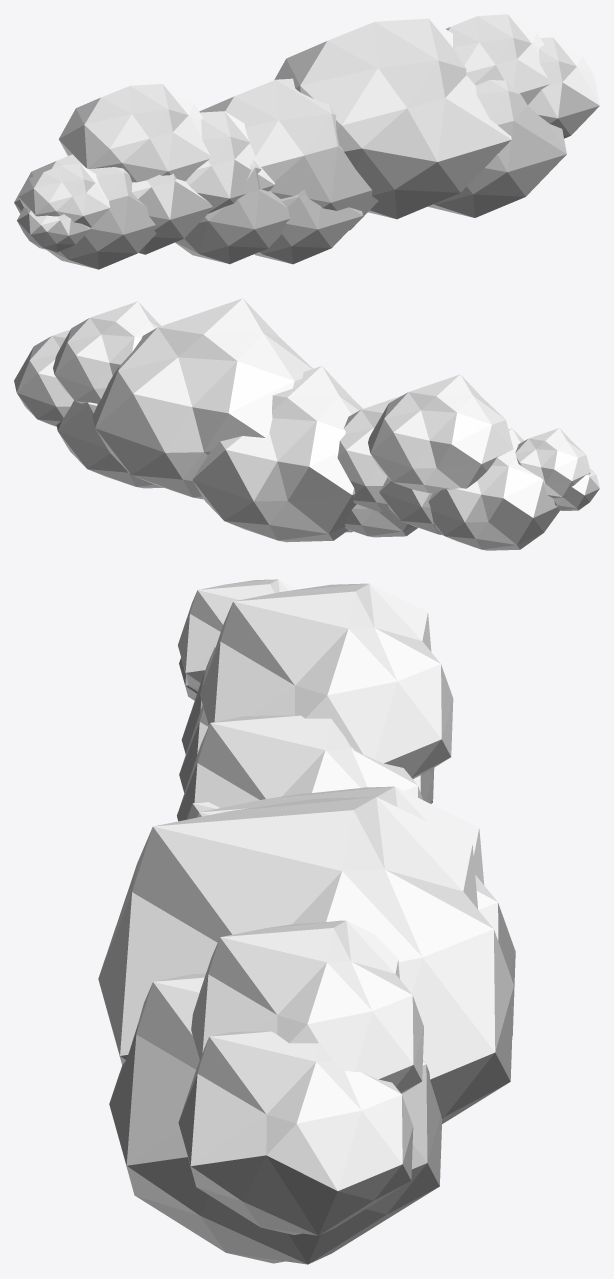
Rendered from Cloud3.fbx.
The picture shows the model from 3 angles, top to bottom: view 1: azimuth 30°, elevation 25°; view 2: azimuth 150°, elevation 25°; view 3: azimuth 270°, elevation 25°; orthographic projection. The views are drawn at different scales.
Parts seen in each view (by area): view 1: Icosphere.013; view 2: Icosphere.013; view 3: Icosphere.013.
Boxes of the visible parts, left/top/right/bottom form: Icosphere.013: left=14, top=14, right=599, bottom=269; Icosphere.013: left=14, top=298, right=599, bottom=550; Icosphere.013: left=98, top=579, right=515, bottom=1264.
Bounding box in the file's own units: 1.09 × 0.363 × 0.3558.
